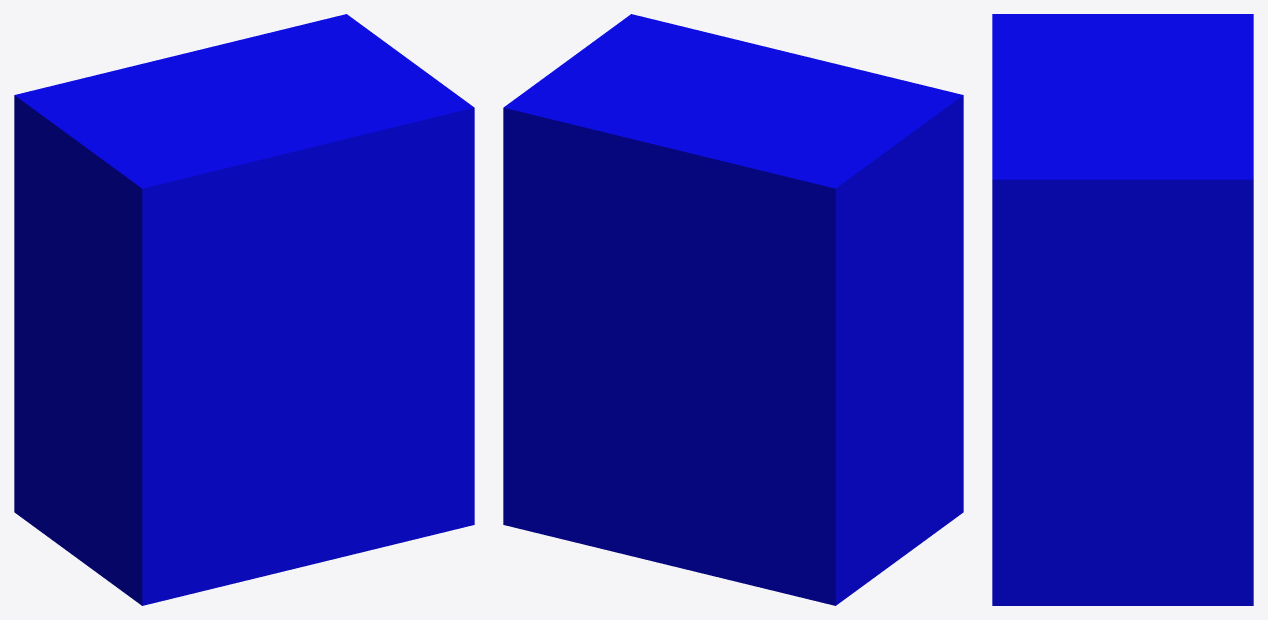
The model's file is MezzanineControlSystem_aluminium_1_alt.dae.
3 views of the same model, side by side, from view 1: azimuth 30°, elevation 25°; view 2: azimuth 150°, elevation 25°; view 3: azimuth 270°, elevation 25° (orthographic). The views are drawn at different scales.
Parts seen in each view (by area): view 1: MezzanineControlSystem_aluminium_1; view 2: MezzanineControlSystem_aluminium_1; view 3: MezzanineControlSystem_aluminium_1.
Boxes of the visible parts, bbox=[...] form: MezzanineControlSystem_aluminium_1: bbox=[14, 14, 474, 605]; MezzanineControlSystem_aluminium_1: bbox=[503, 14, 963, 605]; MezzanineControlSystem_aluminium_1: bbox=[992, 14, 1253, 605].
Bounding box in the file's own units: 1.5 × 1 × 1.8.
